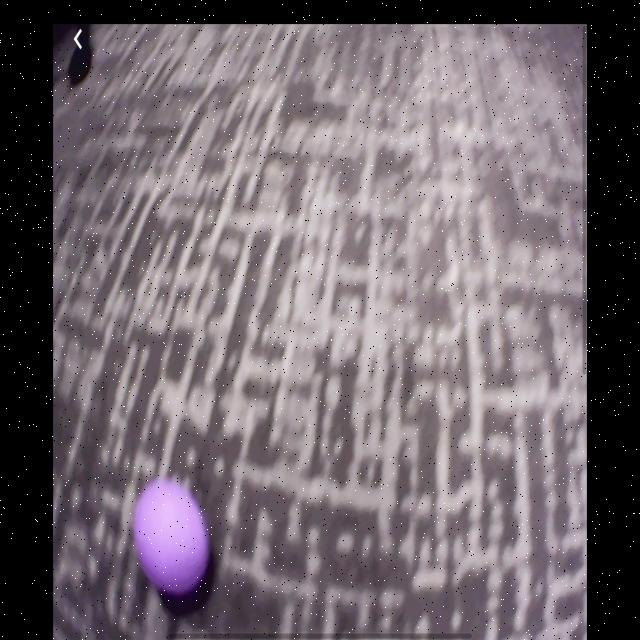ball: (133, 477, 211, 598)
